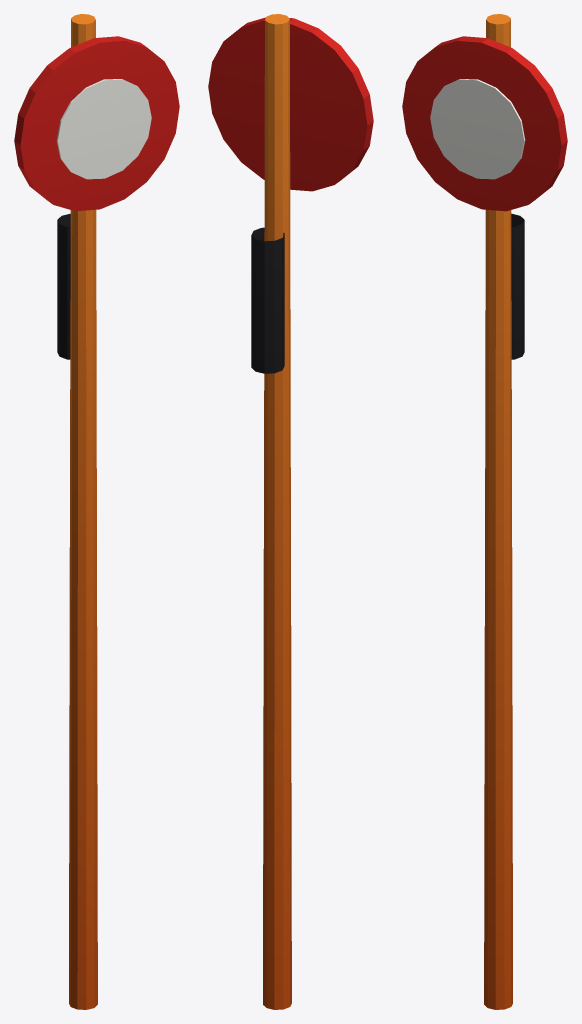
Rendered from Piste_Marker.fbx.
3 renders of one model, left to right at view 1: azimuth 30°, elevation 25°; view 2: azimuth 150°, elevation 25°; view 3: azimuth 330°, elevation 25°, orthographic.
Parts seen in each view (by area): view 1: Piste_Marker_LOD0; view 2: Piste_Marker_LOD0; view 3: Piste_Marker_LOD0.
Boxes of the visible parts, left/top/right/bottom form: Piste_Marker_LOD0: left=14, top=14, right=179, bottom=1009; Piste_Marker_LOD0: left=208, top=14, right=373, bottom=1009; Piste_Marker_LOD0: left=402, top=14, right=567, bottom=1009.
Size of what is drawn, in the model's own units: 0.44 by 2.6 by 0.1853.
Materials: 1 (1 with a texture image).
